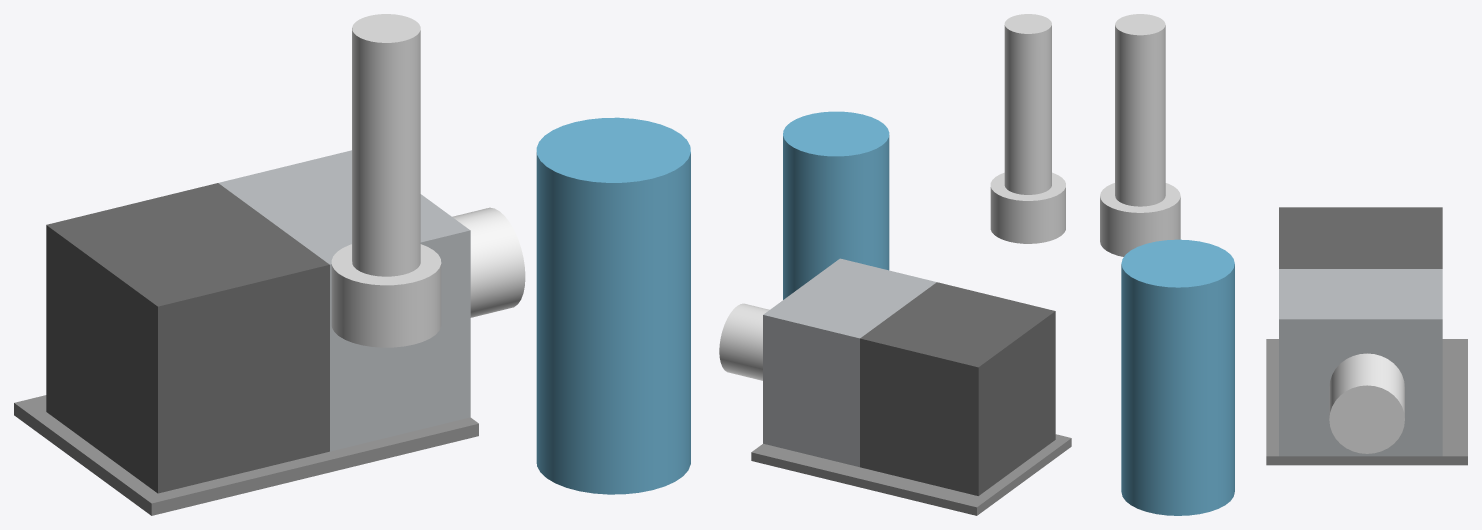
File: plumbing-v2r.glb
3 renders of one model, left to right at view 1: azimuth 30°, elevation 25°; view 2: azimuth 150°, elevation 25°; view 3: azimuth 270°, elevation 25°, orthographic. The views are drawn at different scales.
Size of the model in its own units: 315 by 330 by 292.
